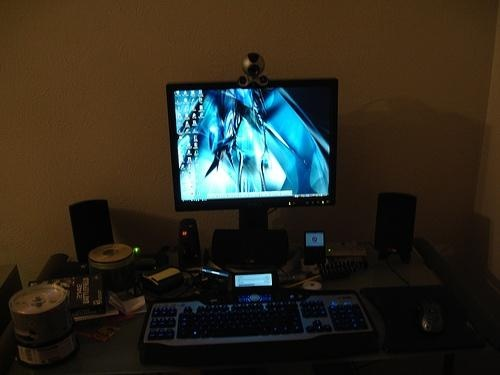tvmonitor: (166, 78, 341, 276)
